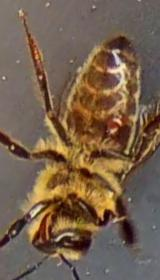varroa_mite: (101, 104, 133, 140)
